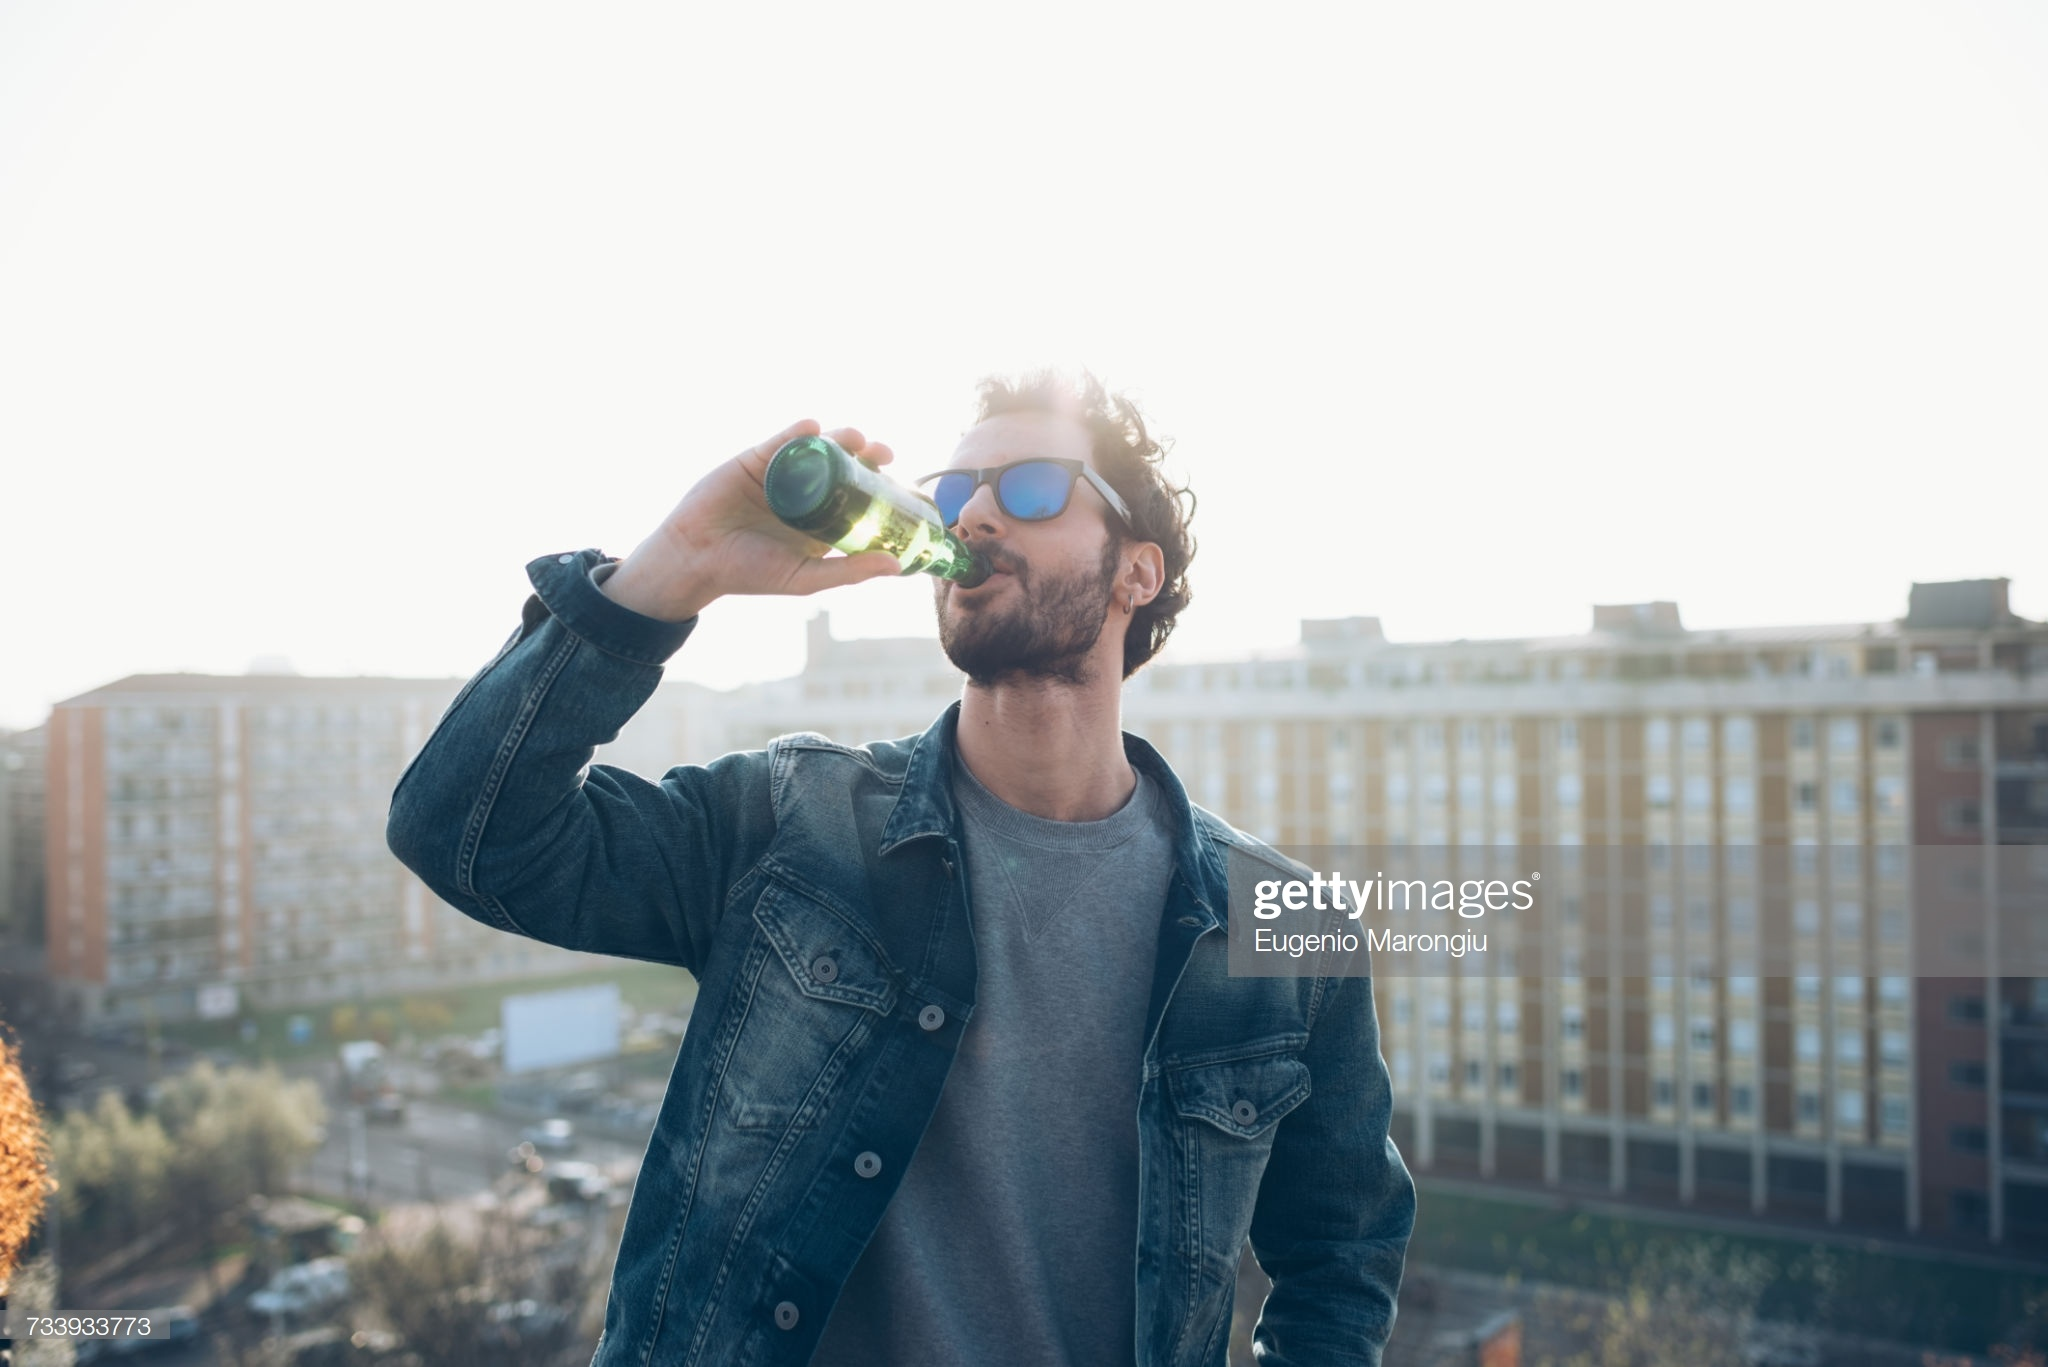beerBottle: (758, 436, 993, 584)
